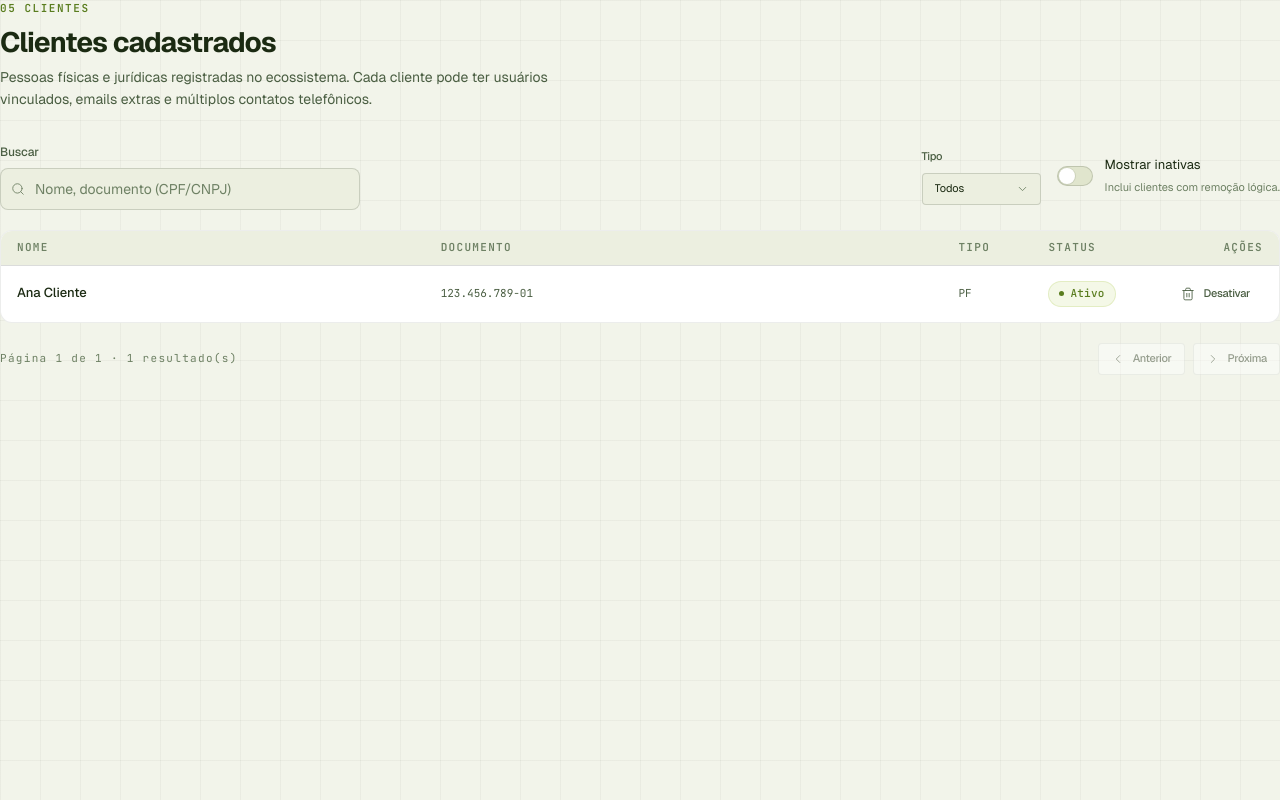
Test: ClientsListShellPage — desativar (Issue #76) › confirmação bem-sucedida › envia DELETE /clients/{id} com id correto, fecha modal, exibe toast verde e refaz listClients
Click the button "Desativar". click: (1216,294)
box: 1168,278 -> 1263,310
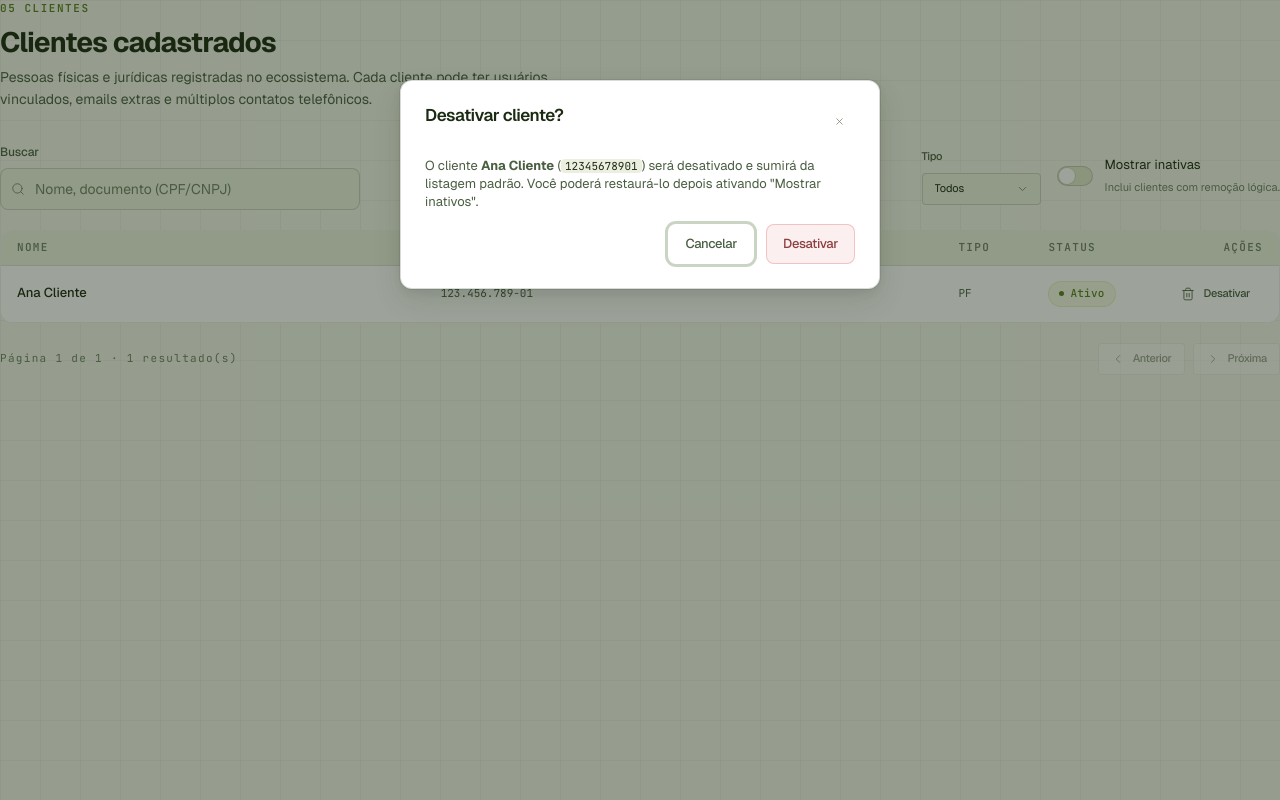
Click the button with test id "delete-client-confirm". click: (810,244)
box: 766,224 -> 855,264
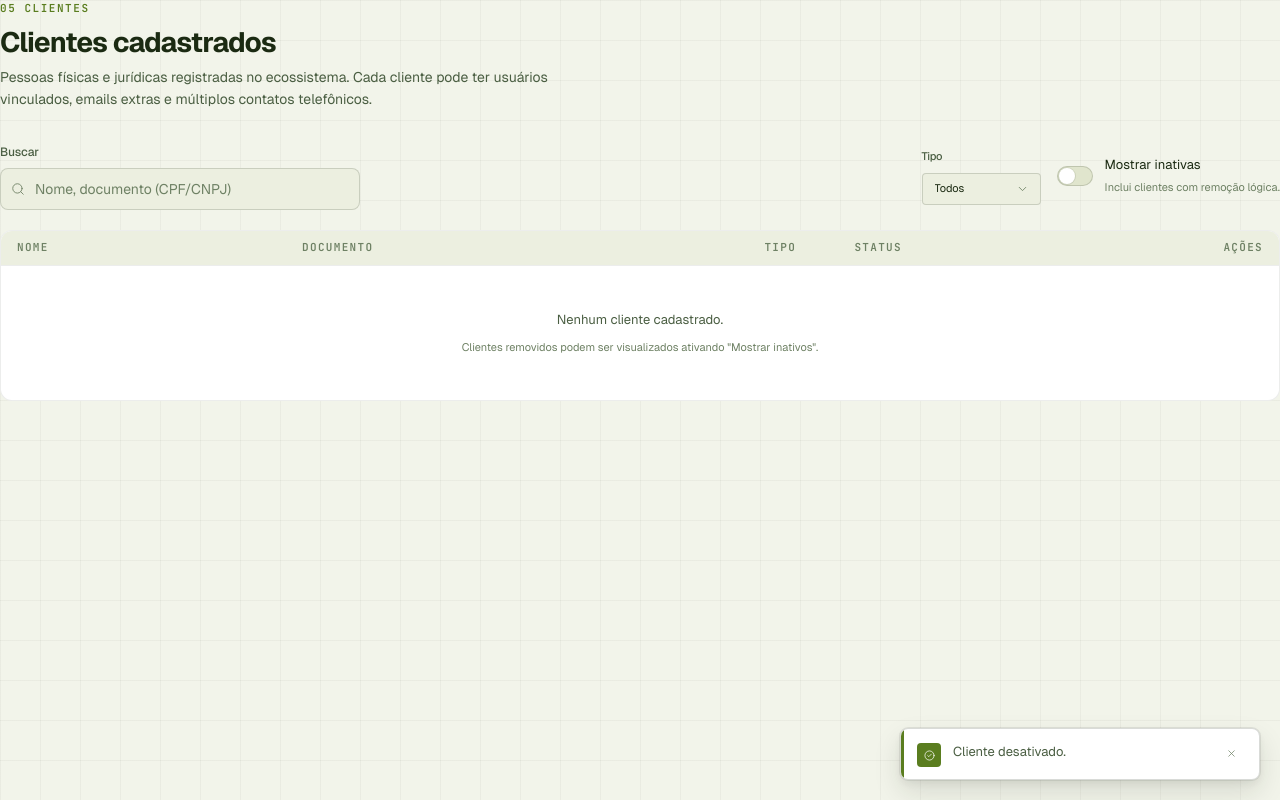
Check: the dialog is gone
Check: the text "Cliente desativado." is shown, box 953,743 -> 1066,760
